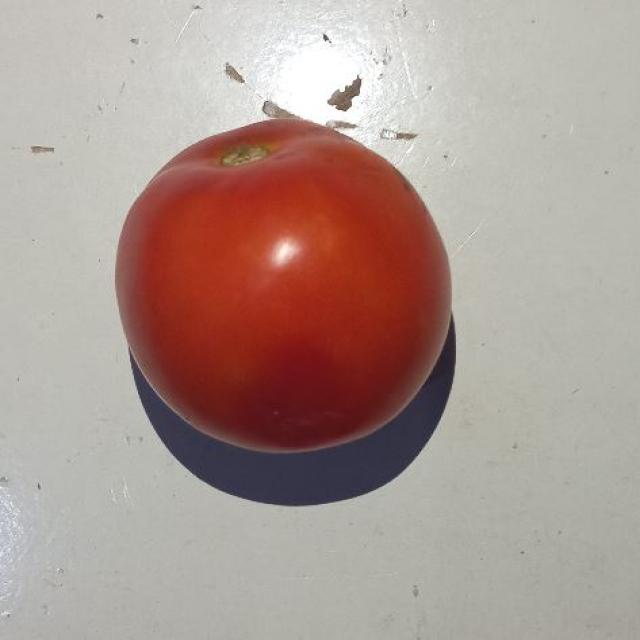ripe tomato: (105, 113, 458, 459)
